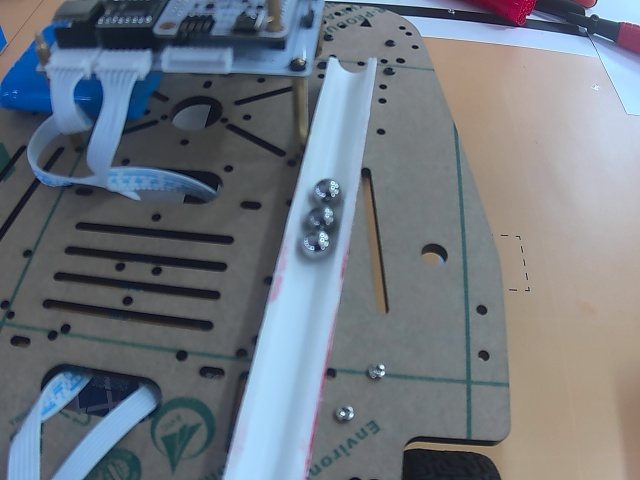steelball: (313, 179, 341, 206), (302, 232, 329, 258), (308, 207, 334, 230)
